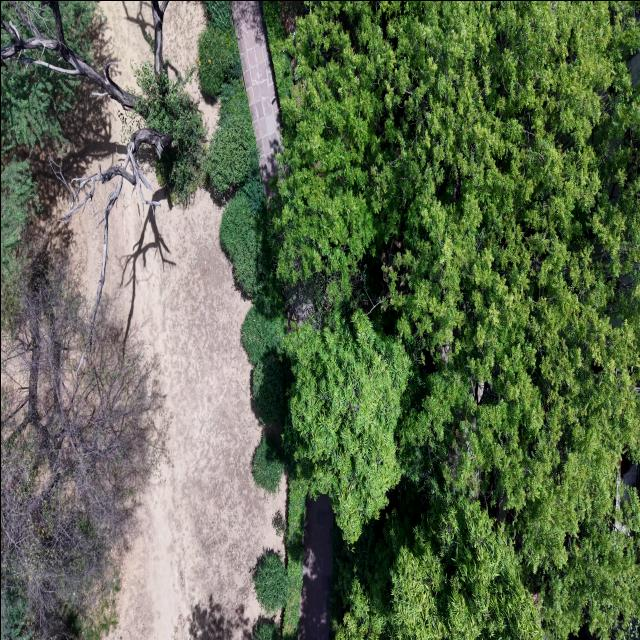DRY_AREA: (104, 172, 285, 639), (231, 1, 280, 186), (299, 495, 333, 639)
VEGETATION_TREE: (102, 1, 639, 639), (273, 1, 639, 639), (1, 1, 283, 638), (1, 1, 263, 638), (1, 1, 205, 639), (1, 1, 204, 342), (1, 263, 162, 639), (1, 1, 206, 205), (1, 1, 207, 204), (1, 1, 204, 201), (333, 493, 543, 639), (285, 311, 409, 543), (205, 79, 287, 425), (206, 80, 288, 424), (205, 78, 285, 424), (206, 79, 285, 425), (1, 65, 80, 326), (220, 147, 285, 363), (198, 1, 262, 217), (253, 438, 308, 639), (135, 63, 206, 205), (242, 244, 289, 424), (1, 63, 81, 158), (1, 158, 38, 330), (205, 80, 258, 192), (242, 305, 287, 425), (282, 456, 308, 639), (1, 159, 38, 280), (282, 473, 308, 639), (220, 190, 261, 295), (198, 1, 241, 97), (71, 573, 120, 639), (198, 24, 241, 96), (262, 1, 293, 97), (242, 306, 285, 365), (252, 354, 285, 425), (254, 551, 287, 613), (252, 436, 283, 493), (1, 591, 30, 639), (242, 161, 264, 213), (204, 1, 234, 30), (253, 620, 279, 639), (272, 510, 287, 537)
